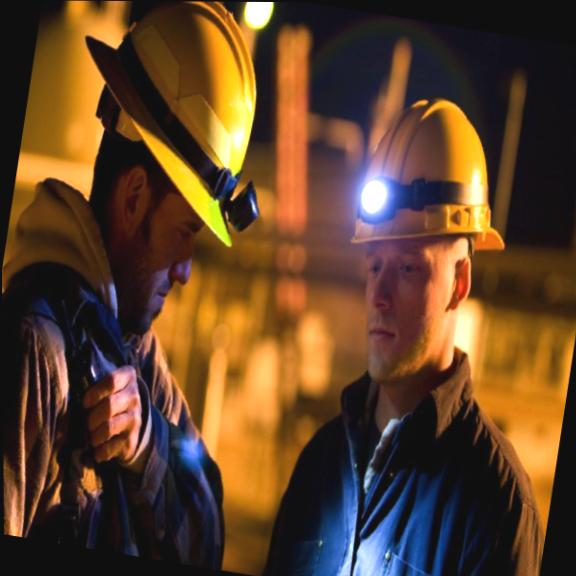no_safety_vest: (263, 333, 542, 576), (2, 284, 241, 567)
